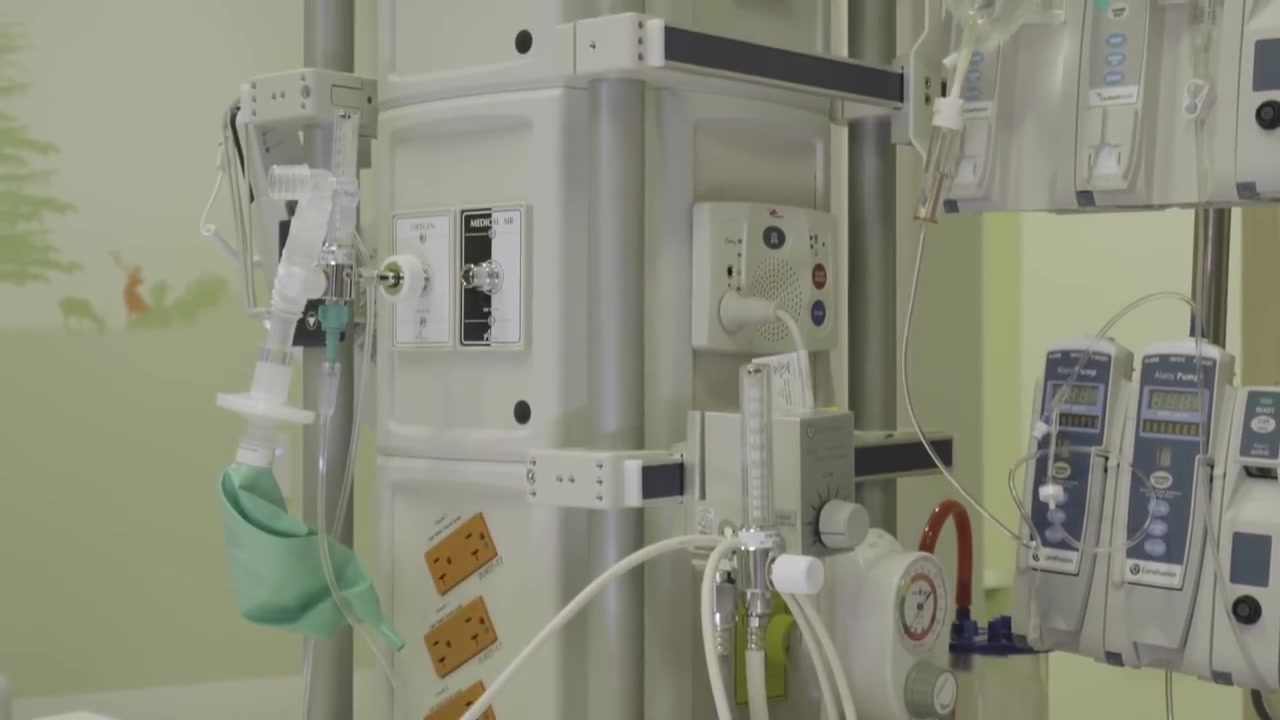infusion_pump: (1014, 336, 1280, 662)
iv_pole: (1190, 196, 1234, 358)
